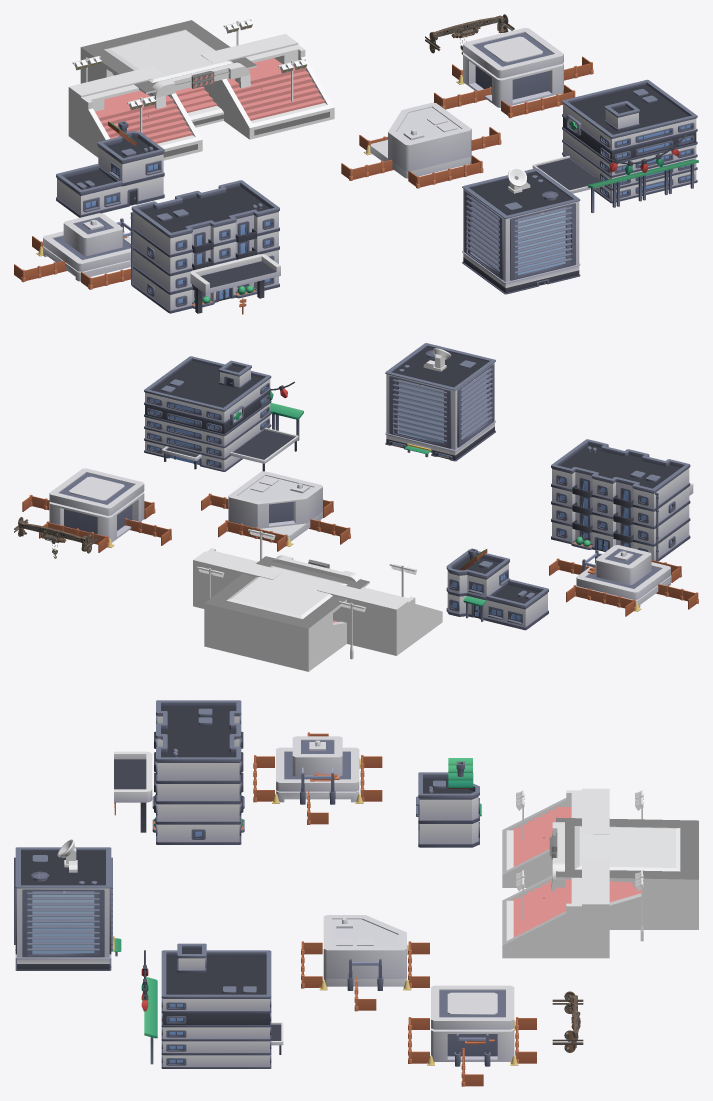
File: kits.glb
3 renders of one model, top to bottom at view 1: azimuth 30°, elevation 25°; view 2: azimuth 150°, elevation 25°; view 3: azimuth 270°, elevation 25°, orthographic. The views are drawn at different scales.
Visible parts, largest first — view 1: kit.vault, kit.market, kit.war, kit.stadium.e, kit.stadium.n, kit.stadium.w, kit.forge, kit.pier, kit.oracle, kit.club, kit.vault.portico, kit.stadium.gantry (+8 smaller); view 2: kit.vault, kit.market, kit.stadium.n, kit.war, kit.forge, kit.pier, kit.stadium.w, kit.oracle, kit.club, kit.stadium.e, kit.pier.crane, kit.club.fence.n (+3 smaller); view 3: kit.market, kit.vault, kit.war, kit.stadium.n, kit.stadium.e, kit.pier, kit.oracle, kit.stadium.w, kit.club, kit.forge, kit.vault.portico, kit.pier.crane (+8 smaller).
Part boxes in pixels (bbox=[...]): kit.vault: bbox=[130, 180, 279, 313]; kit.market: bbox=[532, 79, 697, 203]; kit.war: bbox=[462, 168, 580, 294]; kit.stadium.e: bbox=[200, 34, 334, 139]; kit.stadium.n: bbox=[80, 20, 256, 127]; kit.stadium.w: bbox=[68, 66, 202, 160]; kit.forge: bbox=[56, 131, 164, 217]; kit.pier: bbox=[463, 28, 563, 107]; kit.oracle: bbox=[370, 102, 471, 178]; kit.club: bbox=[43, 213, 130, 281]; kit.vault.portico: bbox=[190, 254, 280, 313]; kit.stadium.gantry: bbox=[150, 62, 250, 108]; kit.vault: bbox=[551, 439, 690, 561]; kit.market: bbox=[144, 356, 298, 471]; kit.stadium.n: bbox=[204, 556, 369, 671]; kit.war: bbox=[385, 343, 495, 461]; kit.forge: bbox=[446, 549, 548, 630]; kit.pier: bbox=[49, 468, 144, 542]; kit.stadium.w: bbox=[317, 581, 442, 655]; kit.oracle: bbox=[228, 471, 322, 541]; kit.club: bbox=[576, 545, 670, 607]; kit.stadium.e: bbox=[193, 548, 283, 608]; kit.pier.crane: bbox=[14, 517, 97, 558]; kit.club.fence.n: bbox=[566, 585, 635, 616]; kit.market: bbox=[161, 943, 283, 1068]; kit.vault: bbox=[152, 700, 244, 844]; kit.war: bbox=[14, 847, 121, 970]; kit.stadium.n: bbox=[556, 817, 698, 929]; kit.stadium.e: bbox=[502, 859, 609, 958]; kit.pier: bbox=[431, 985, 514, 1061]; kit.oracle: bbox=[323, 915, 406, 986]; kit.stadium.w: bbox=[502, 788, 609, 887]; kit.club: bbox=[276, 736, 359, 802]; kit.forge: bbox=[416, 772, 481, 847]; kit.vault.portico: bbox=[114, 751, 152, 832]; kit.pier.crane: bbox=[552, 991, 583, 1052].
Size of the model in its own units: 136 by 20.1 by 115.
90 materials, 35 textured.
